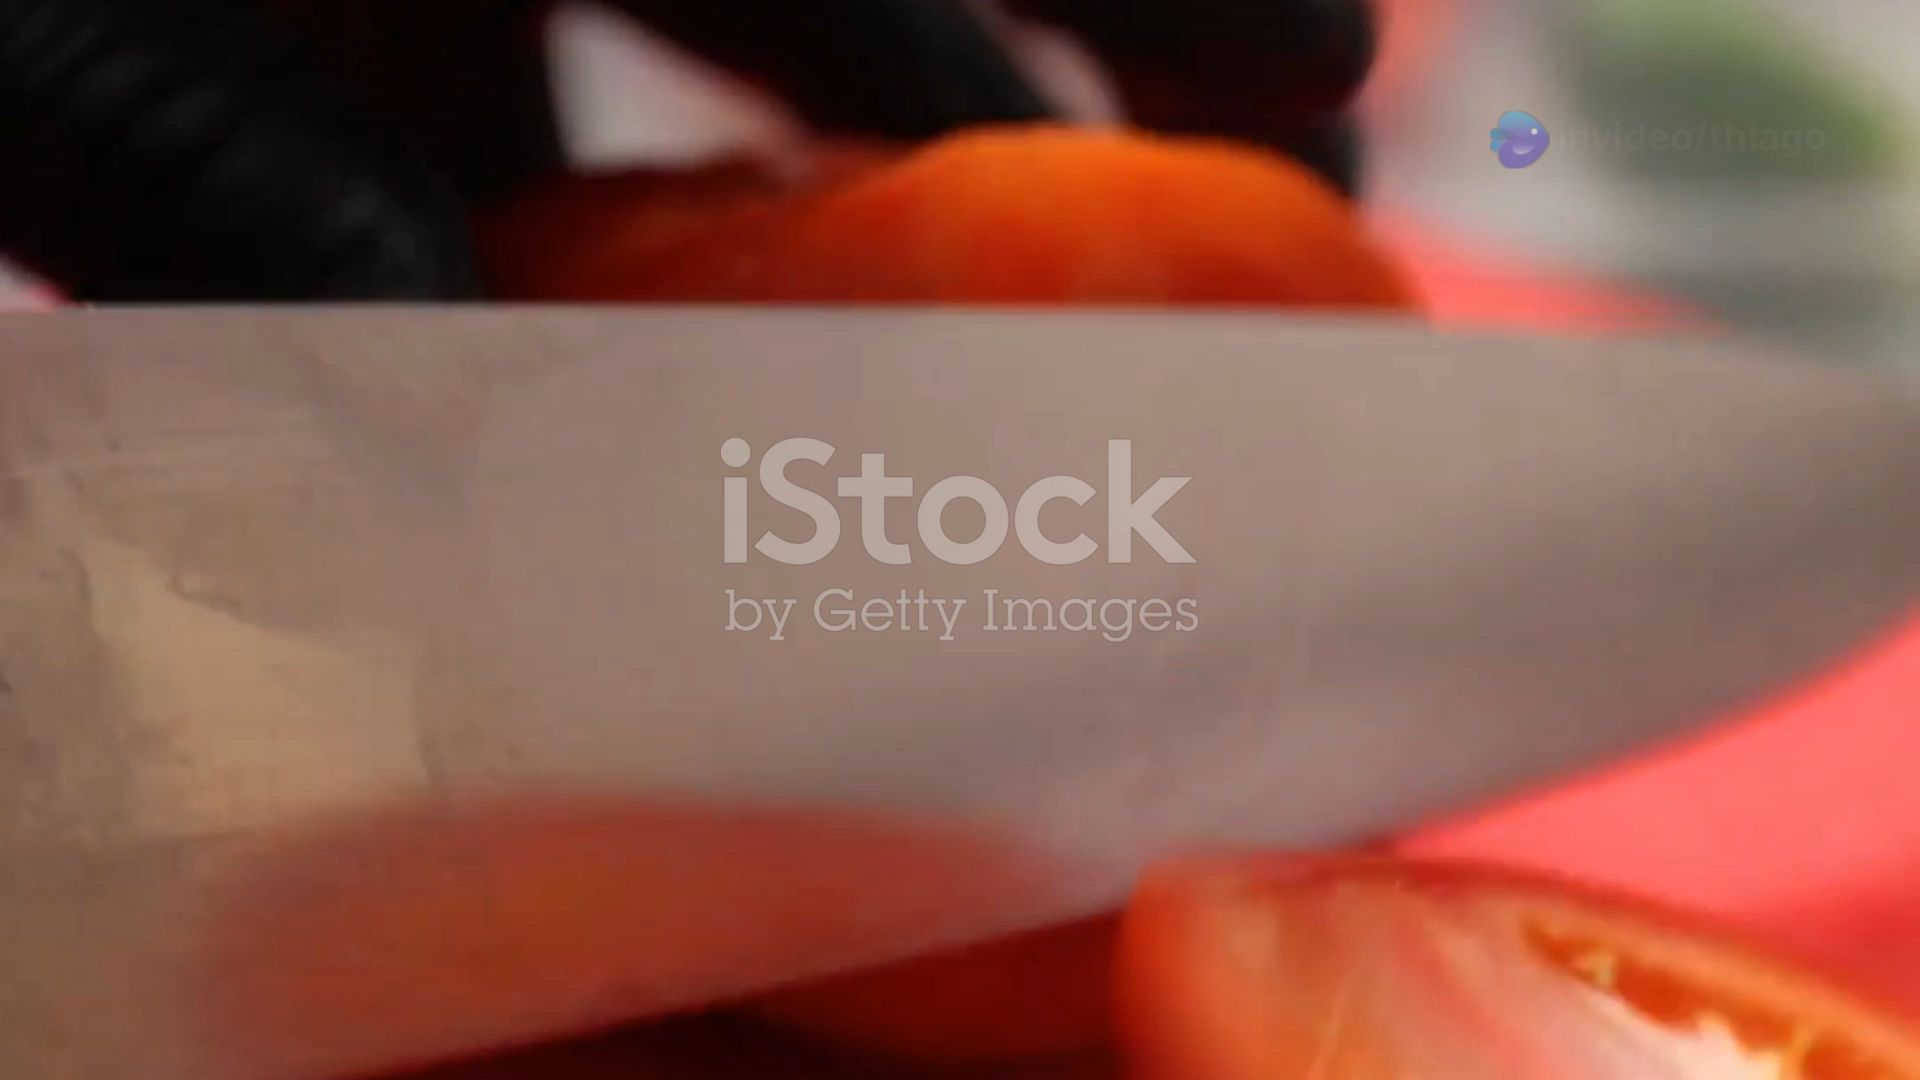cortante: (0, 297, 1913, 1080)
